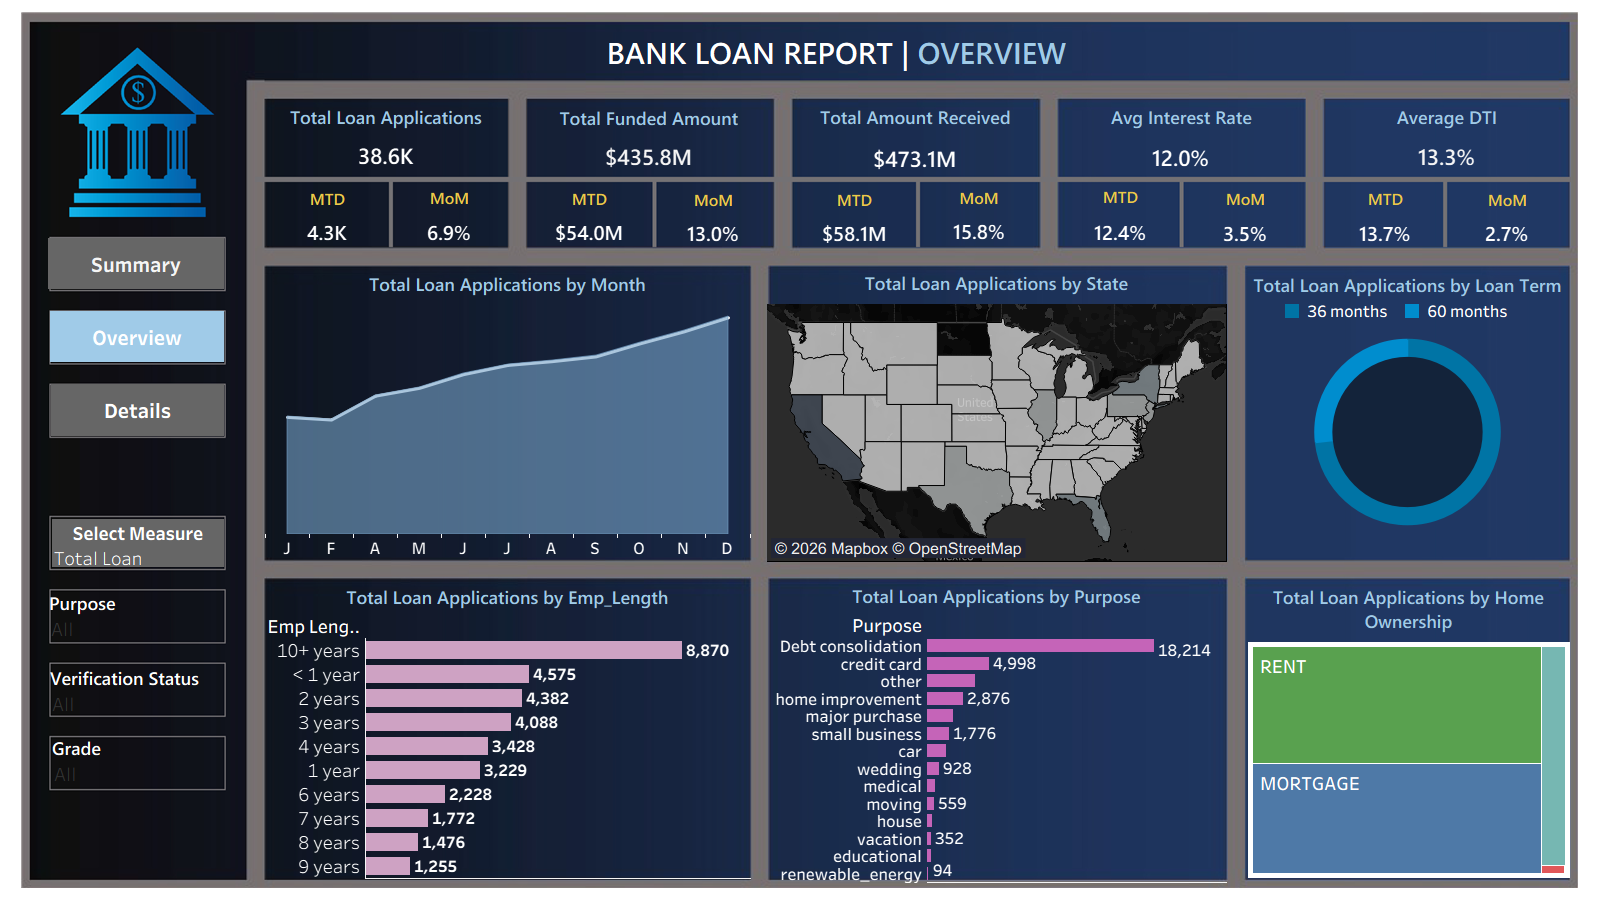

What the dashboard file says about the page in this screenshot:
{"tool":"tableau","page":{"name":"Overview Dashboard","canvas":[1600,900],"ordinal":1},"visuals":[{"type":"image","param":"C:/Users/JOY/Downloads/overview-01.jpg","box":[8,8,1584,884]},{"type":"text","box":[478,32,717,40]},{"type":"worksheet","title":"Total Loan Applications (Overview)","mark":"Automatic","box":[266,99,240,75]},{"type":"worksheet","title":"Total Amount Received (Overview)","mark":"Automatic","box":[793,99,245,80]},{"type":"worksheet","title":"Avg Interest Rate (Overview)","mark":"Automatic","box":[1057,99,249,78]},{"type":"worksheet","title":"Average DTI (Overview)","mark":"Automatic","box":[1325,99,244,77]},{"type":"worksheet","title":"Total Funded Amount (Overview)","mark":"Automatic","box":[528,100,242,75]},{"type":"worksheet","title":"MTD Avg Interest Rate (Overview)","mark":"Automatic","box":[1060,180,121,67]},{"type":"worksheet","title":"MoM Total Loan Applications (Overview)","mark":"Automatic","box":[392,181,115,66]},{"type":"worksheet","title":"MoM Total Amount Received (Overview)","mark":"Automatic","box":[920,181,118,63]},{"type":"worksheet","title":"MTD Total Loan Applications (Overview)","mark":"Automatic","box":[265,182,125,64]},{"type":"worksheet","title":"MTD Total Funded Amount (Overview)","mark":"Automatic","box":[527,182,125,63]},{"type":"worksheet","title":"MoM Average Interest Rate (Overview)","mark":"Automatic","box":[1185,182,121,65]},{"type":"worksheet","title":"MTD Average DTI (Overview)","mark":"Automatic","box":[1326,182,119,65]},{"type":"worksheet","title":"MoM Total Funded Amount (Overview)","mark":"Automatic","box":[656,183,115,63]},{"type":"worksheet","title":"MTD Total Amount Received (Overview)","mark":"Automatic","box":[793,183,123,64]},{"type":"worksheet","title":"MoM Average DTI (Overview)","mark":"Automatic","box":[1447,183,121,63]},{"type":"dashboard-object","box":[48,238,176,51]},{"type":"worksheet","title":"By State","mark":"Automatic","box":[767,265,459,296]},{"type":"worksheet","title":"Monthly Trends","mark":"Area","rows":["Calculation_0657287018024960","Calculation_0657287018024960"],"cols":["issue_date"],"box":[265,266,485,294]},{"type":"worksheet","title":"By Loan Term","mark":"Pie","rows":["Calculation_0282077807128601","Calculation_0282077807128601"],"box":[1247,267,321,291]},{"type":"legend","title":"By Loan Term","param":"[federated.02bapp10spx5te19axciv0uohof1].[none:term:nk]","box":[1281,300,250,24]},{"type":"dashboard-object","box":[50,311,174,51]},{"type":"dashboard-object","box":[51,384,173,52]},{"type":"parameter","param":"[Parameters].[Parameter 2]","box":[52,519,172,48]},{"type":"worksheet","title":"Loan Purpose","mark":"Automatic","rows":["purpose"],"cols":["Calculation_0657287018024960"],"box":[767,578,459,304]},{"type":"worksheet","title":"By Employee Length","mark":"Automatic","rows":["emp_length"],"cols":["Calculation_0657287018024960"],"box":[265,579,485,299]},{"type":"worksheet","title":"Home Ownership","mark":"Automatic","box":[1248,579,321,302]},{"type":"filter","title":"Monthly Trends","param":"[federated.02bapp10spx5te19axciv0uohof1].[none:purpose:nk]","box":[49,590,175,55]},{"type":"filter","title":"Monthly Trends","param":"[federated.02bapp10spx5te19axciv0uohof1].[none:verification_status:nk]","box":[50,665,176,49]},{"type":"filter","title":"Monthly Trends","param":"[federated.02bapp10spx5te19axciv0uohof1].[none:grade:nk]","box":[52,735,173,53]}]}

Visuals, with their boxes in screenshot pixels (x1, y1, x2, y2), scaled from the page's 1600x900 canvas onto the 1600x900 screenshot:
image: bbox=[8, 8, 1592, 892]
text: bbox=[478, 32, 1195, 72]
"Total Loan Applications (Overview)" worksheet: bbox=[266, 99, 506, 174]
"Total Amount Received (Overview)" worksheet: bbox=[793, 99, 1038, 179]
"Avg Interest Rate (Overview)" worksheet: bbox=[1057, 99, 1306, 177]
"Average DTI (Overview)" worksheet: bbox=[1325, 99, 1569, 176]
"Total Funded Amount (Overview)" worksheet: bbox=[528, 100, 770, 175]
"MTD Avg Interest Rate (Overview)" worksheet: bbox=[1060, 180, 1181, 247]
"MoM Total Loan Applications (Overview)" worksheet: bbox=[392, 181, 507, 247]
"MoM Total Amount Received (Overview)" worksheet: bbox=[920, 181, 1038, 244]
"MTD Total Loan Applications (Overview)" worksheet: bbox=[265, 182, 390, 246]
"MTD Total Funded Amount (Overview)" worksheet: bbox=[527, 182, 652, 245]
"MoM Average Interest Rate (Overview)" worksheet: bbox=[1185, 182, 1306, 247]
"MTD Average DTI (Overview)" worksheet: bbox=[1326, 182, 1445, 247]
"MoM Total Funded Amount (Overview)" worksheet: bbox=[656, 183, 771, 246]
"MTD Total Amount Received (Overview)" worksheet: bbox=[793, 183, 916, 247]
"MoM Average DTI (Overview)" worksheet: bbox=[1447, 183, 1568, 246]
dashboard-object: bbox=[48, 238, 224, 289]
"By State" worksheet: bbox=[767, 265, 1226, 561]
"Monthly Trends" worksheet (Area marks): bbox=[265, 266, 750, 560]
"By Loan Term" worksheet (Pie marks): bbox=[1247, 267, 1568, 558]
"By Loan Term" legend: bbox=[1281, 300, 1531, 324]
dashboard-object: bbox=[50, 311, 224, 362]
dashboard-object: bbox=[51, 384, 224, 436]
parameter: bbox=[52, 519, 224, 567]
"Loan Purpose" worksheet: bbox=[767, 578, 1226, 882]
"By Employee Length" worksheet: bbox=[265, 579, 750, 878]
"Home Ownership" worksheet: bbox=[1248, 579, 1569, 881]
"Monthly Trends" filter: bbox=[49, 590, 224, 645]
"Monthly Trends" filter: bbox=[50, 665, 226, 714]
"Monthly Trends" filter: bbox=[52, 735, 225, 788]
